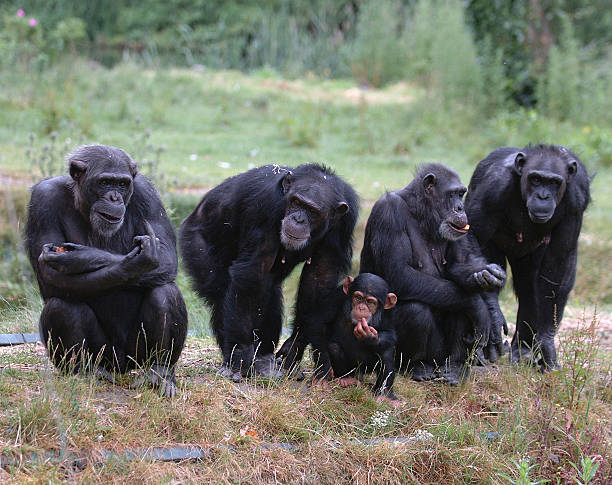chimpanzee: (52, 129, 148, 250), (263, 148, 352, 268), (510, 135, 588, 244), (410, 155, 485, 248), (335, 265, 401, 342)
